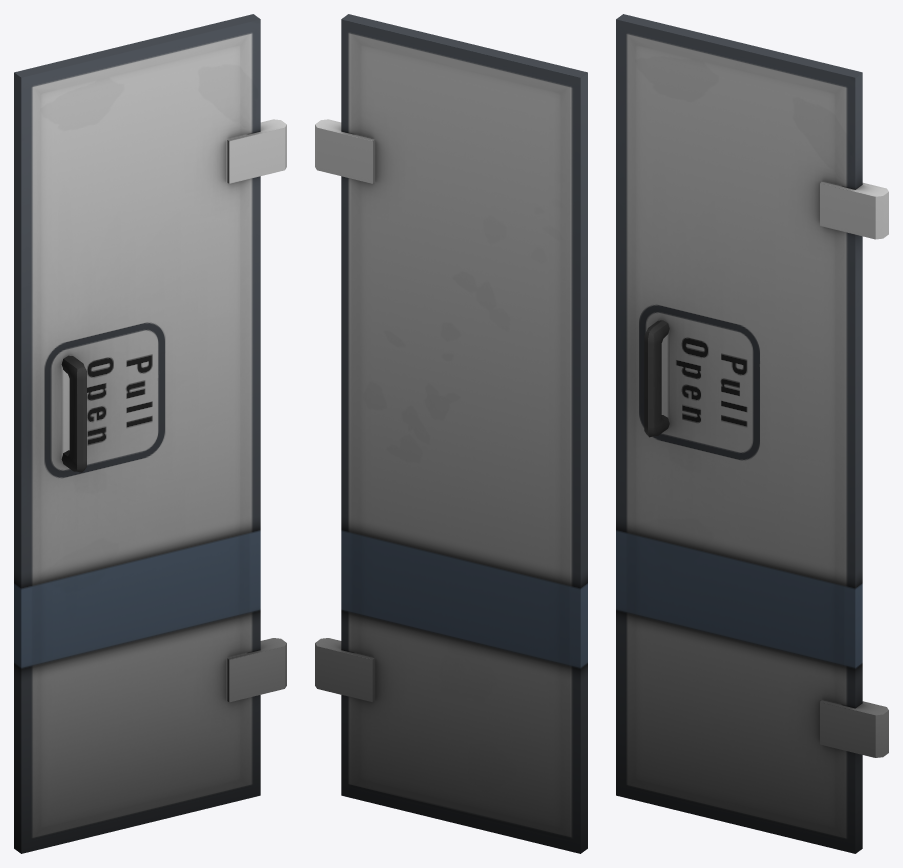
File: Bathroom-Door.FBX
The picture shows the model from 3 angles, left to right: view 1: azimuth 30°, elevation 25°; view 2: azimuth 150°, elevation 25°; view 3: azimuth 330°, elevation 25°; orthographic projection.
Visible parts, largest first — view 1: Bathroom-Door; view 2: Bathroom-Door; view 3: Bathroom-Door.
Part boxes in pixels (box(x1,y1,x2,y2)): Bathroom-Door: box(14, 14, 286, 853); Bathroom-Door: box(315, 14, 587, 853); Bathroom-Door: box(616, 14, 888, 853).
Bounding box in the file's own units: 105 × 292 × 16.54.
